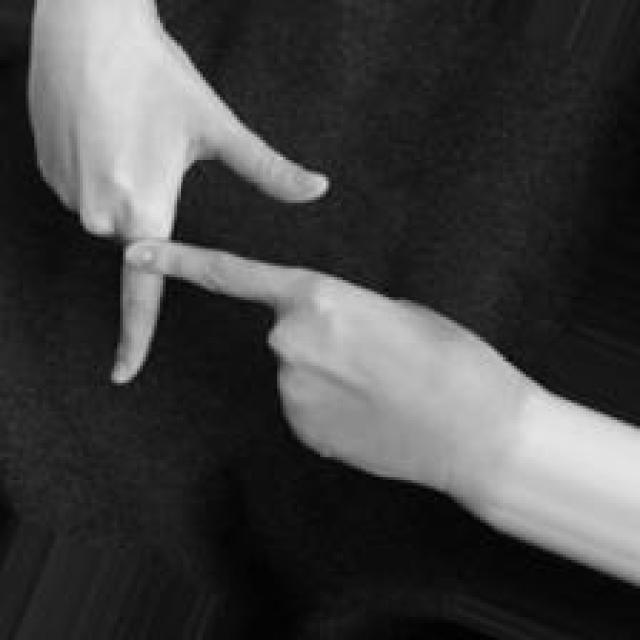F: (29, 5, 453, 494)
